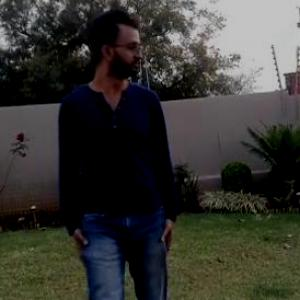follow: (57, 3, 189, 290)
